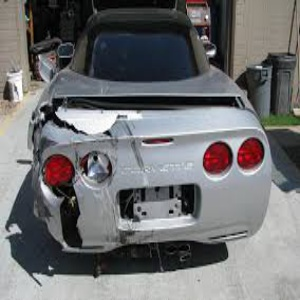bumper: (36, 194, 130, 253)
tail_lights: (36, 148, 120, 190)
